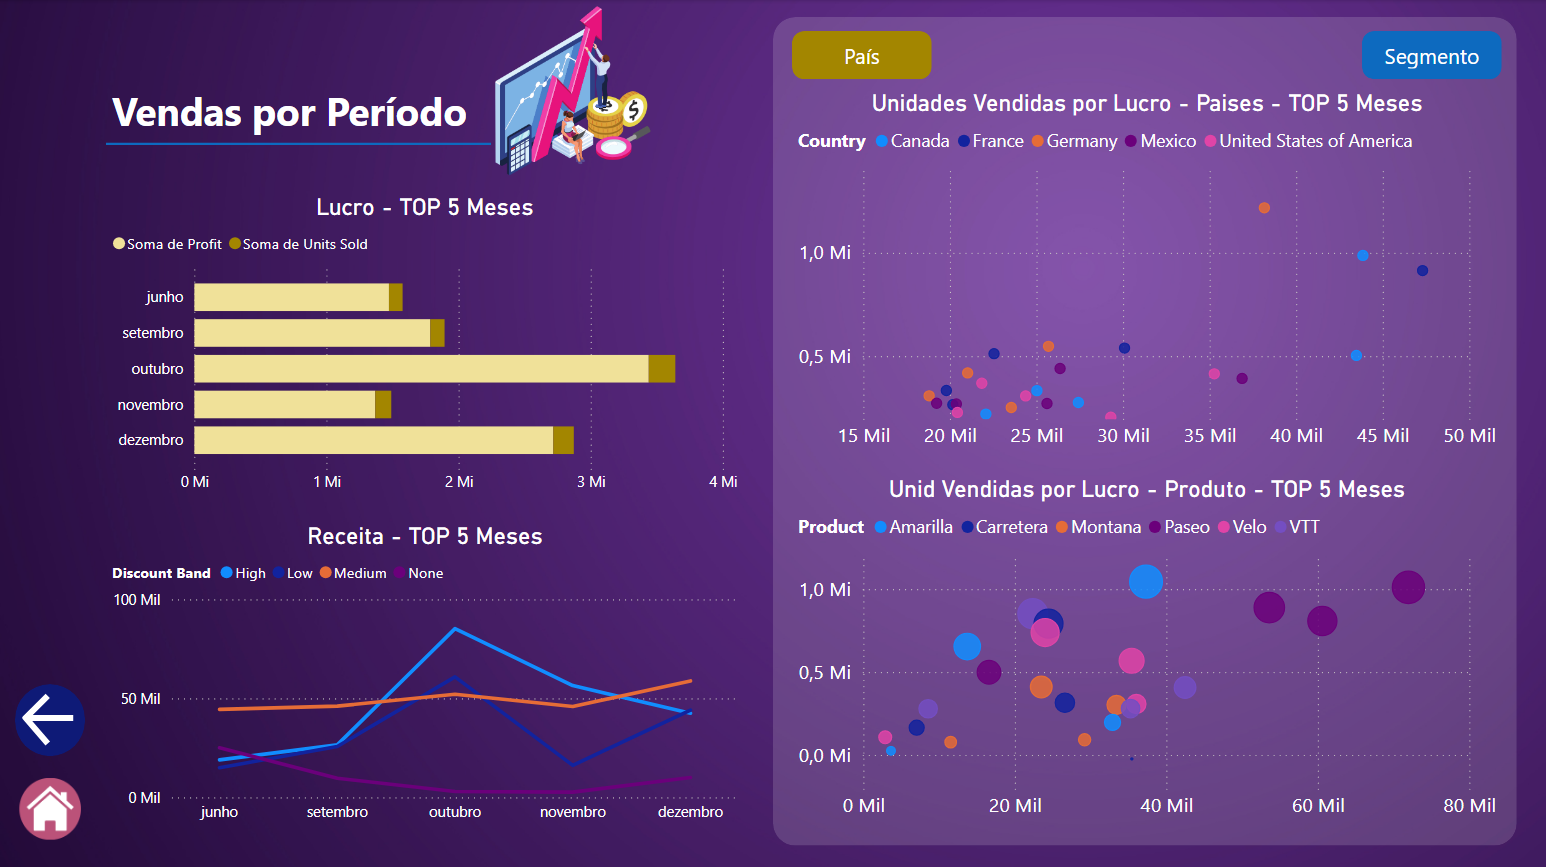

Layout of this report page (visuals, bound fields, positions):
{"tool":"powerbi","page":{"name":"Data Analytics","canvas":[1280,720],"ordinal":5},"visuals":[{"type":"shape","box":[87.6,109.5,318.6,19.7],"z":0},{"type":"scatterChart","title":"Unidades Vendidas por Lucro - Paises - TOP 5 Meses","fields":{"Category":["financials.Date.Variation.Hierarquia de datas.Mês"],"X":["Sum(financials.Units Sold)"],"Y":["Sum(financials.Profit)"],"Series":["financials.Country"]},"box":[655.3,73.2,587.5,307],"z":1000,"group":"g1"},{"type":"textbox","title":"Title Report","box":[87.6,64.6,318.6,54.7],"z":1000},{"type":"image","box":[402.8,0,142.4,150.3],"z":2000},{"type":"actionButton","title":"B - Segmento","box":[1127.2,25.3,115.6,39.9],"z":2000,"group":"g1"},{"type":"actionButton","title":"B - Pais","box":[655.3,25.3,115.6,39.9],"z":3000,"group":"g1"},{"type":"image","box":[0,639.2,83.4,60.6],"z":3000},{"type":"actionButton","box":[12.6,566.3,58,59.7],"z":4000},{"type":"shape","box":[640.1,14,615.5,685.8],"z":5000},{"type":"barChart","title":"Lucro - TOP 5 Meses","fields":{"Y":["Sum(financials.Profit)","Sum(financials.Units Sold)"],"Category":["financials.Date.Variation.Hierarquia de datas.Mês"]},"box":[87.4,160,527.4,257.7],"z":6000},{"type":"scatterChart","title":"Unid Vendidas por Lucro - Produto - TOP 5 Meses","fields":{"Size":["Sum(financials.Profit)"],"X":["Sum(financials.Units Sold)"],"Y":["Sum(financials.Profit)"],"Series":["financials.Product"],"Category":["financials.Discount Band"]},"box":[655.3,393.4,587.5,293.7],"z":8000},{"type":"lineChart","title":"Receita - TOP 5 Meses","fields":{"Category":["financials.Date.Variation.Hierarquia de datas.Mês"],"Y":["Sum(financials.Units Sold)"],"Series":["financials.Discount Band"]},"box":[87.7,432,527.7,257.9],"z":11000},{"type":"group","id":"g1","title":"Unidades Vendidas por Lucro","box":[655.3,25.3,587.5,354.9],"z":13000}]}

Visuals, with their boxes in screenshot pixels (x1, y1, x2, y2), scaled from the page's 1280x720 canvas onto the 1546x867 screenshot:
shape: left=106, top=132, right=491, bottom=156
"Unidades Vendidas por Lucro - Paises - TOP 5 Meses" scatterChart: left=791, top=88, right=1501, bottom=458
"Title Report" textbox: left=106, top=78, right=491, bottom=144
image: left=487, top=0, right=658, bottom=181
"B - Segmento" actionButton: left=1361, top=30, right=1501, bottom=79
"B - Pais" actionButton: left=791, top=30, right=931, bottom=79
image: left=0, top=770, right=101, bottom=843
actionButton: left=15, top=682, right=85, bottom=754
shape: left=773, top=17, right=1517, bottom=843
"Lucro - TOP 5 Meses" barChart: left=106, top=193, right=743, bottom=503
"Unid Vendidas por Lucro - Produto - TOP 5 Meses" scatterChart: left=791, top=474, right=1501, bottom=827
"Receita - TOP 5 Meses" lineChart: left=106, top=520, right=743, bottom=831
"Unidades Vendidas por Lucro" group: left=791, top=30, right=1501, bottom=458
